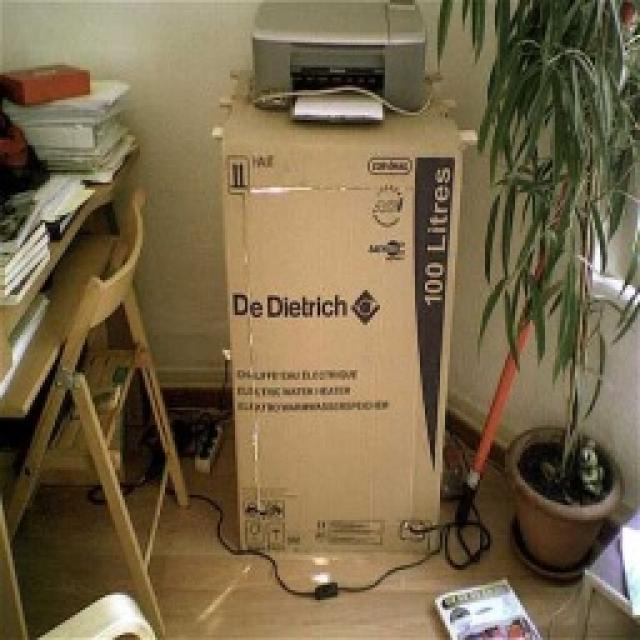box: (230, 92, 462, 536)
